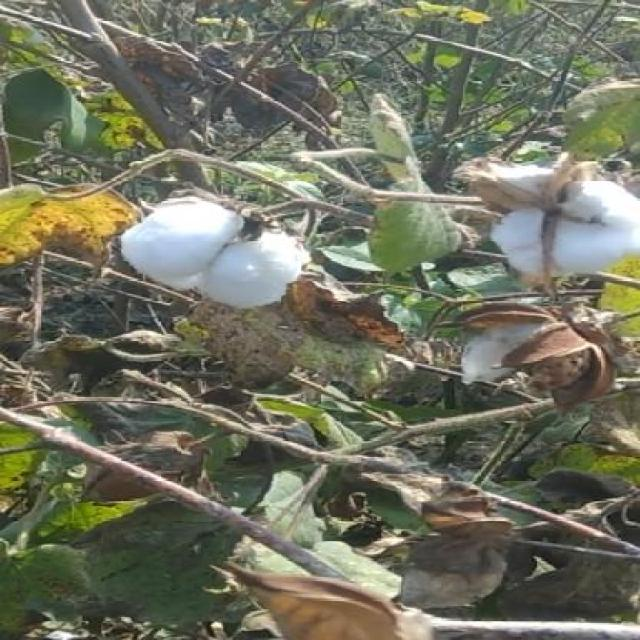cotton_ready: (83, 201, 351, 327), (442, 152, 640, 294)
